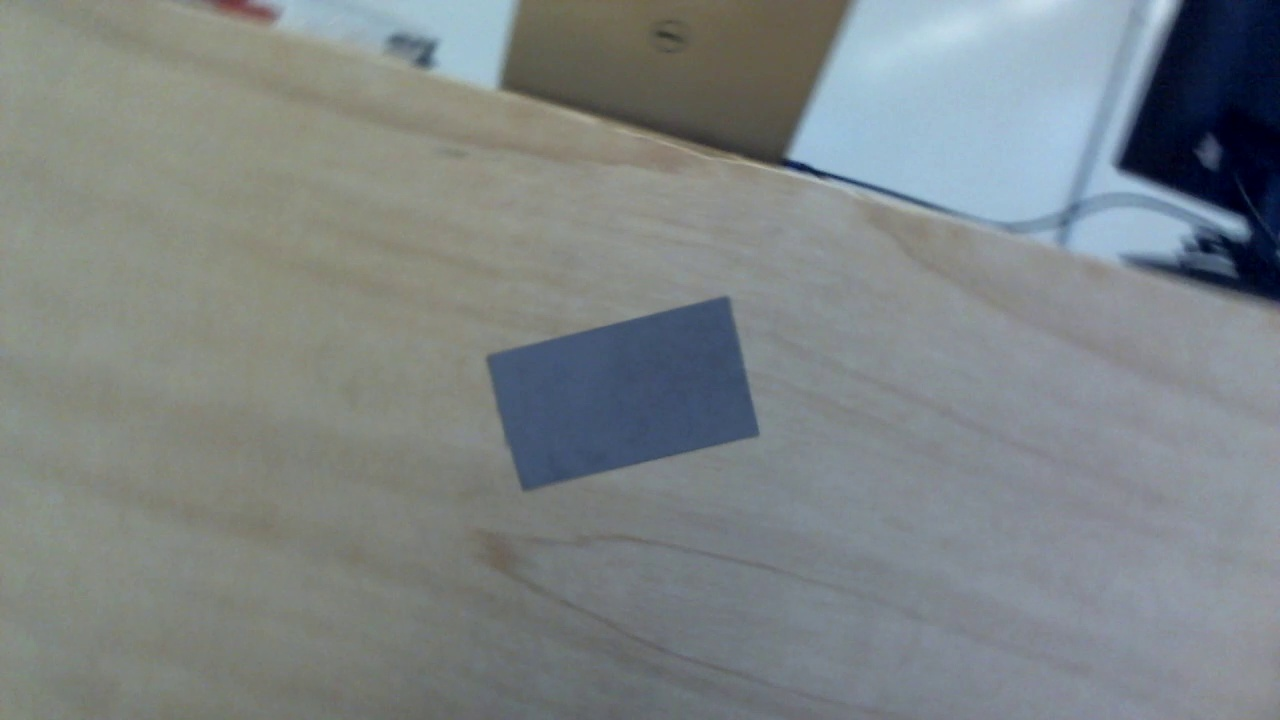Tape: (488, 297, 763, 491)
